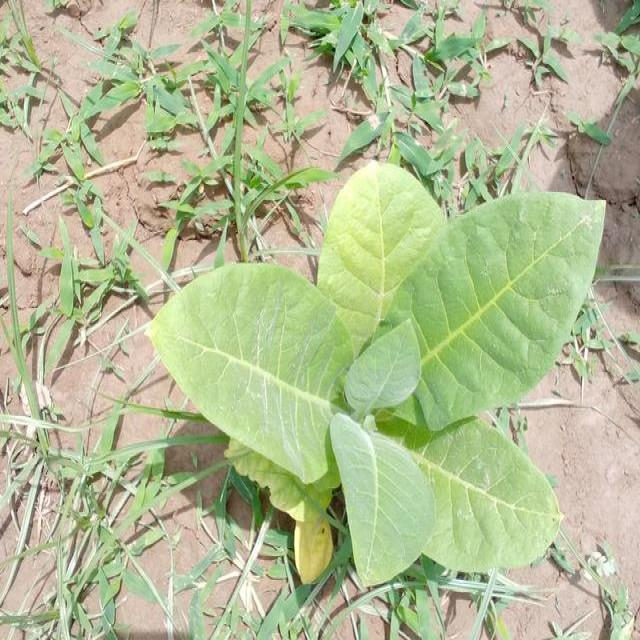crop: (152, 171, 605, 599)
